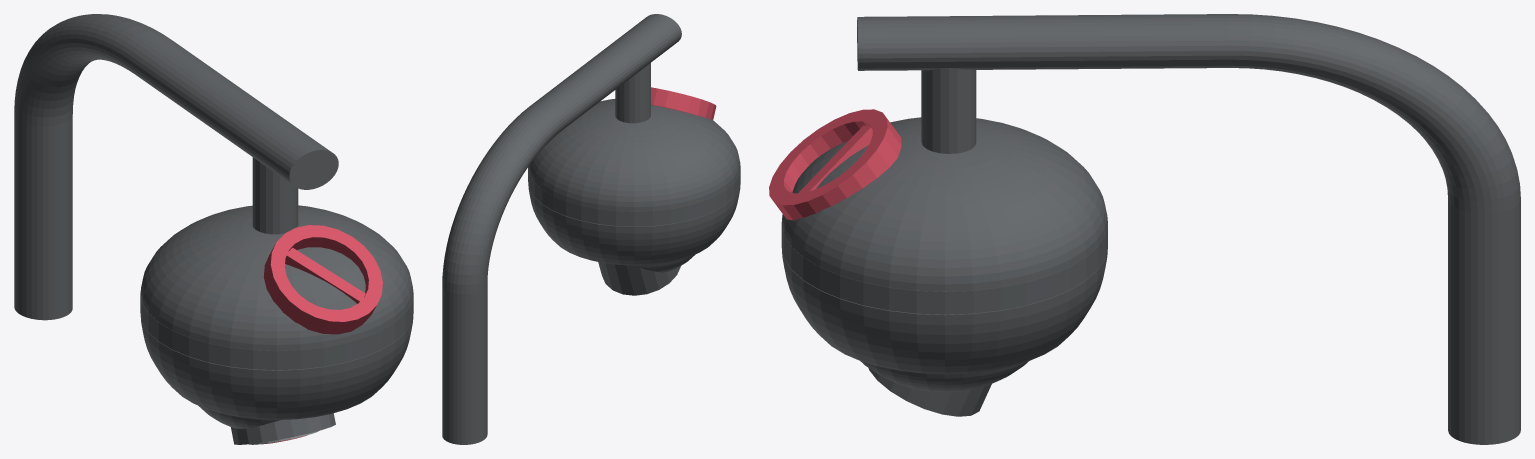
The model's file is Camera Outdoor Dome Non-Operational.glb.
3 views of the same model, side by side, from view 1: azimuth 30°, elevation 25°; view 2: azimuth 150°, elevation 25°; view 3: azimuth 270°, elevation 25° (orthographic). The views are drawn at different scales.
Visible parts, largest first — view 1: Mesh_Mesh_head_geo.001_lambert2SG.001; view 2: Mesh_Mesh_head_geo.001_lambert2SG.001; view 3: Mesh_Mesh_head_geo.001_lambert2SG.001.
Boxes of the visible parts, x1=… form: Mesh_Mesh_head_geo.001_lambert2SG.001: x1=14, y1=14, x2=413, y2=444; Mesh_Mesh_head_geo.001_lambert2SG.001: x1=442, y1=14, x2=740, y2=444; Mesh_Mesh_head_geo.001_lambert2SG.001: x1=769, y1=14, x2=1520, y2=444.
Bounding box in the file's own units: 66.15 × 92.49 × 152.
